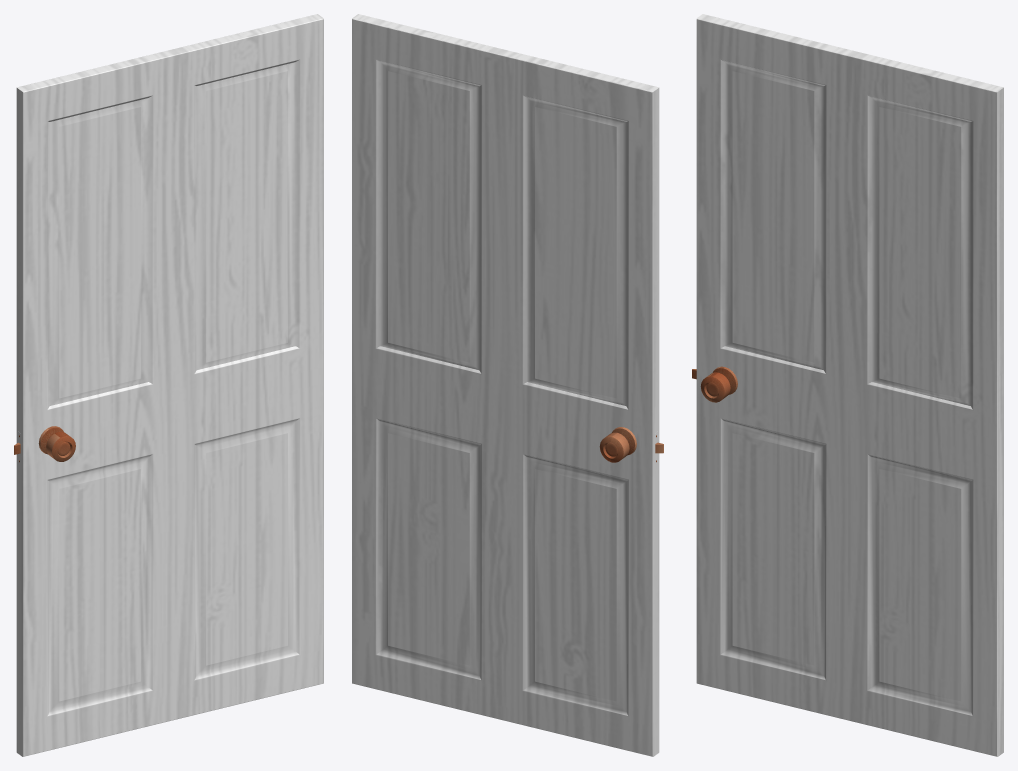
File: Puerta.obj
3 views of the same model, side by side, from view 1: azimuth 30°, elevation 25°; view 2: azimuth 150°, elevation 25°; view 3: azimuth 330°, elevation 25° (orthographic).
Parts seen in each view (by area): view 1: Geo_Door_01Ctrl_Door_01DoorRig_01, Ctrl_Door_01DoorRig_01Doornob_A_02Ctrl_DoorHandleB_01; view 2: Geo_Door_01Ctrl_Door_01DoorRig_01, Ctrl_Door_01DoorRig_01Doornob_A_01Ctrl_DoorHandleA_01; view 3: Geo_Door_01Ctrl_Door_01DoorRig_01, Ctrl_Door_01DoorRig_01Doornob_A_02Ctrl_DoorHandleB_01.
Boxes of the visible parts, <box> form: Geo_Door_01Ctrl_Door_01DoorRig_01: <box>16,14,323,756</box>; Ctrl_Door_01DoorRig_01Doornob_A_02Ctrl_DoorHandleB_01: <box>38,426,75,461</box>; Geo_Door_01Ctrl_Door_01DoorRig_01: <box>352,14,659,756</box>; Ctrl_Door_01DoorRig_01Doornob_A_01Ctrl_DoorHandleA_01: <box>599,427,636,462</box>; Geo_Door_01Ctrl_Door_01DoorRig_01: <box>696,14,1003,756</box>; Ctrl_Door_01DoorRig_01Doornob_A_02Ctrl_DoorHandleB_01: <box>700,366,737,402</box>.
Size of the model in its own units: 3.77 by 7.78 by 0.7109.
Materials: 2 (2 with a texture image).
